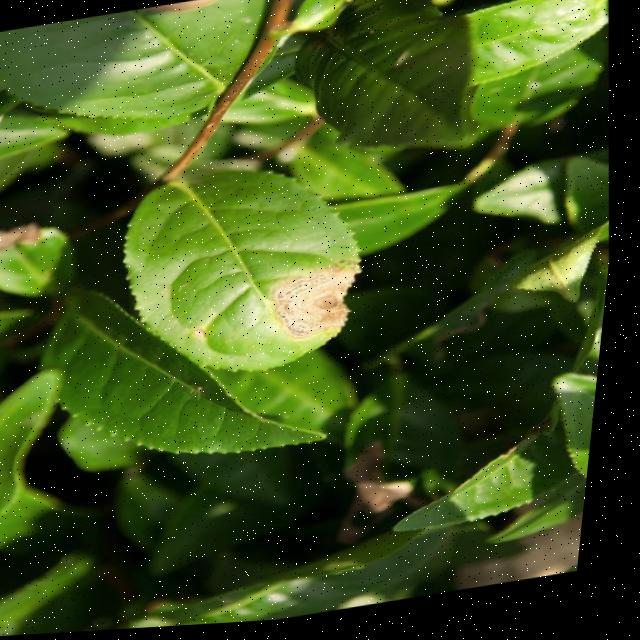Tea cloud leaf blight: (271, 265, 377, 350)
